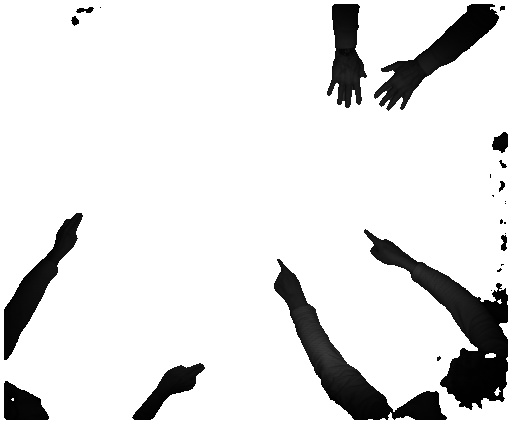hand: (320, 53, 369, 111), (375, 63, 425, 111), (360, 224, 410, 269), (52, 208, 87, 262), (272, 256, 306, 306), (165, 360, 207, 397)
